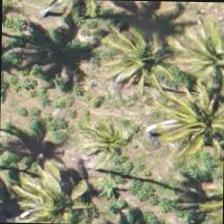Kelapa_Sawit: (93, 8, 185, 100), (21, 163, 113, 223), (165, 70, 223, 162), (177, 22, 223, 114)
